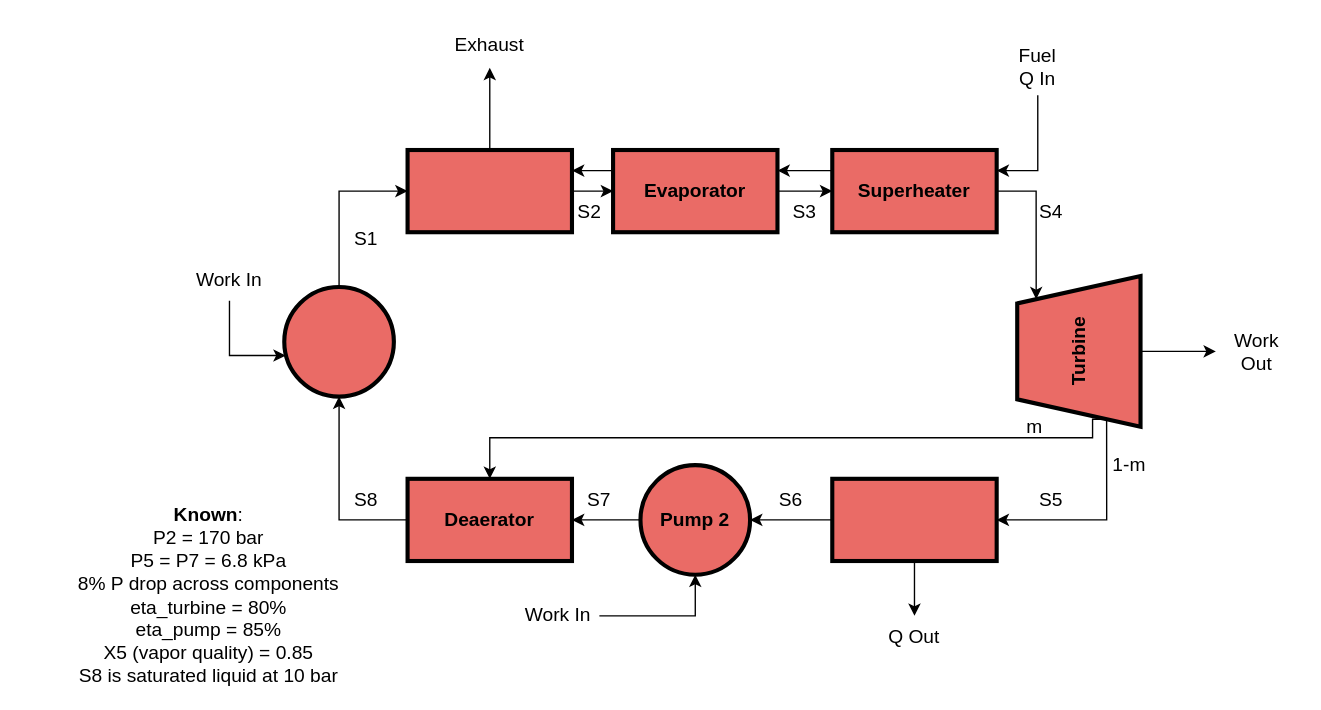
This 1321x710 diagram has some shape labels left out. Here are the shapes that lost their labels. From the top down, the centre of each, then its label:
At [489,190]: "Economizer".
At [338,341]: "Pump 1".
At [914,519]: "Condenser".
